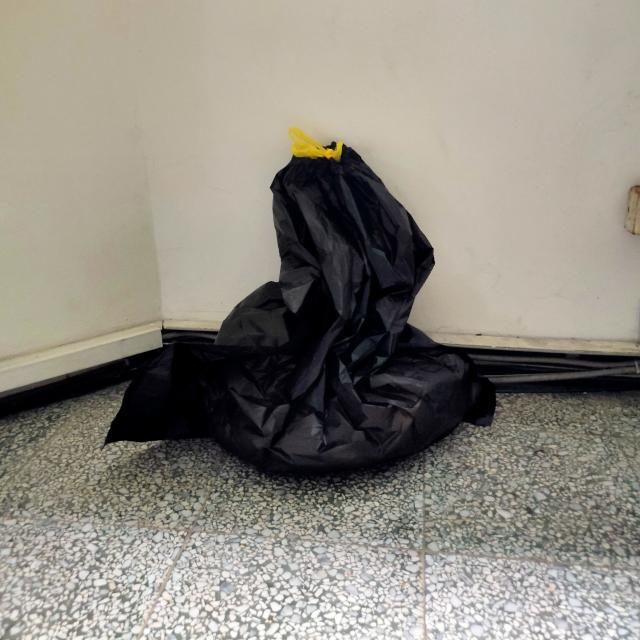Vinyl: (100, 106, 514, 490)
